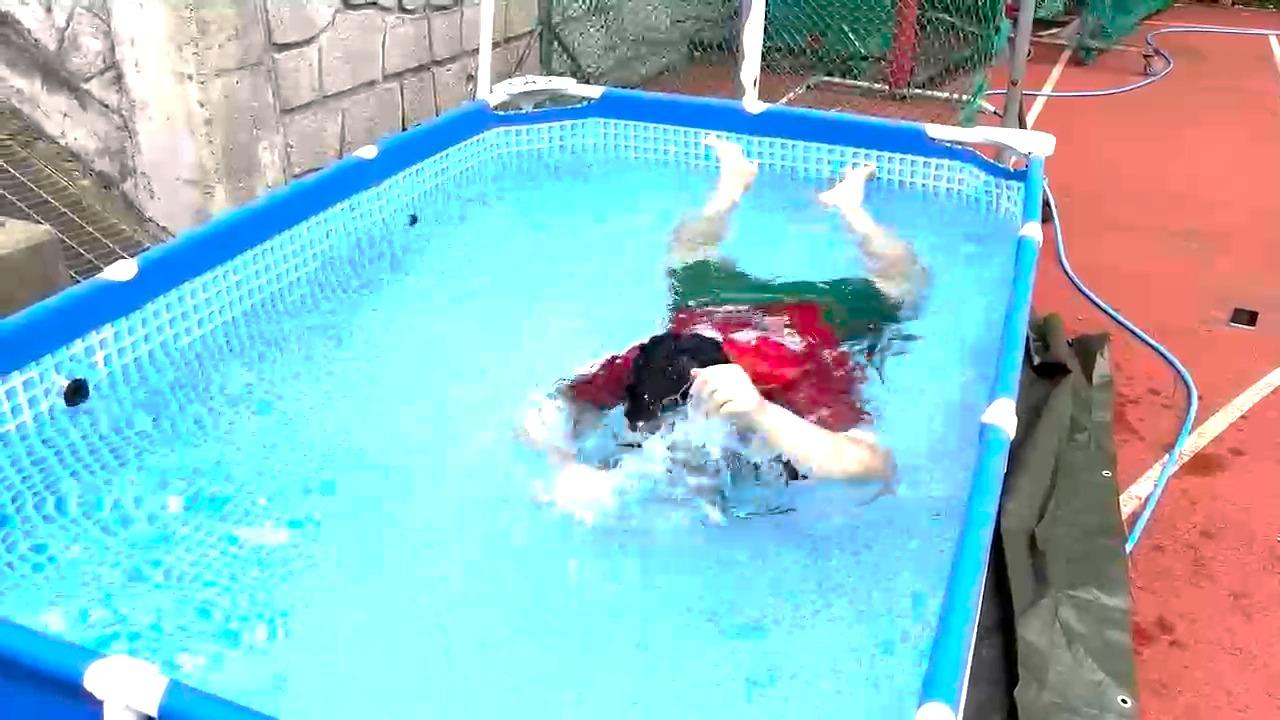Drowning: (508, 122, 931, 560)
